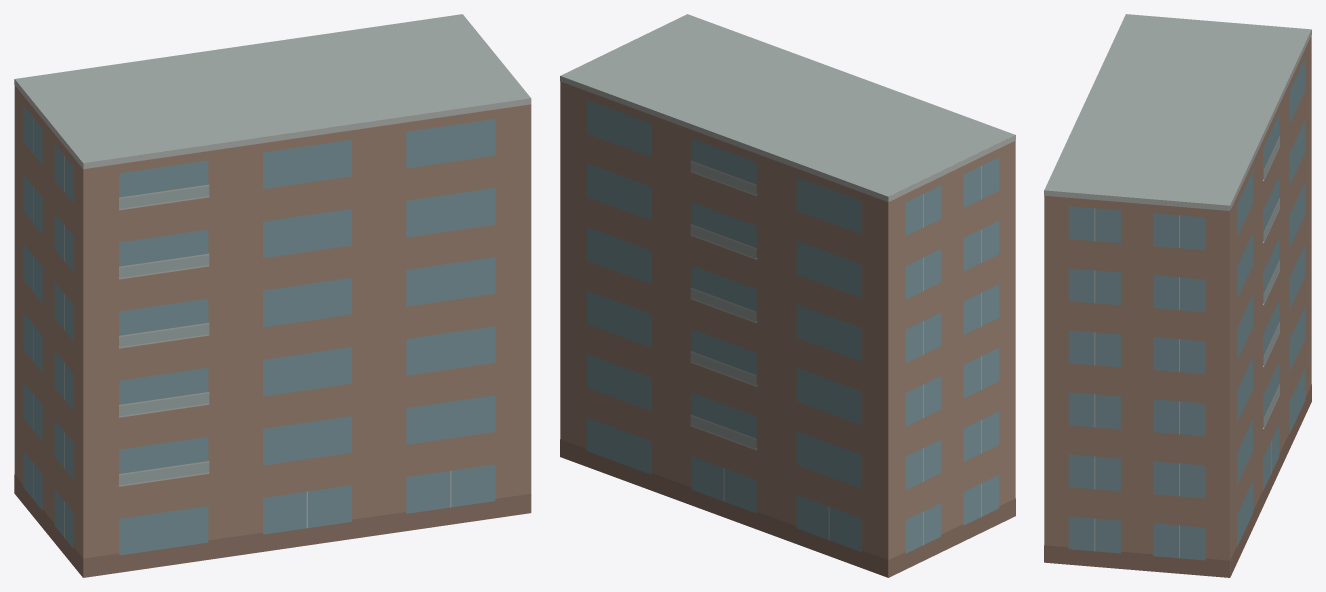
Rendered from survey-upis-32521363.glb.
3 renders of one model, left to right at view 1: azimuth 30°, elevation 25°; view 2: azimuth 150°, elevation 25°; view 3: azimuth 270°, elevation 25°, orthographic. The views are drawn at different scales.
Parts seen in each view (by area): view 1: survey-upis-32521363.tmp; view 2: survey-upis-32521363.tmp; view 3: survey-upis-32521363.tmp.
Boxes of the visible parts, x1,y1,x2,y2 form: survey-upis-32521363.tmp: (14,14,531,577); survey-upis-32521363.tmp: (560,14,1015,577); survey-upis-32521363.tmp: (1044,14,1311,577).
Bounding box in the file's own units: 18.79 × 17 × 11.09.
